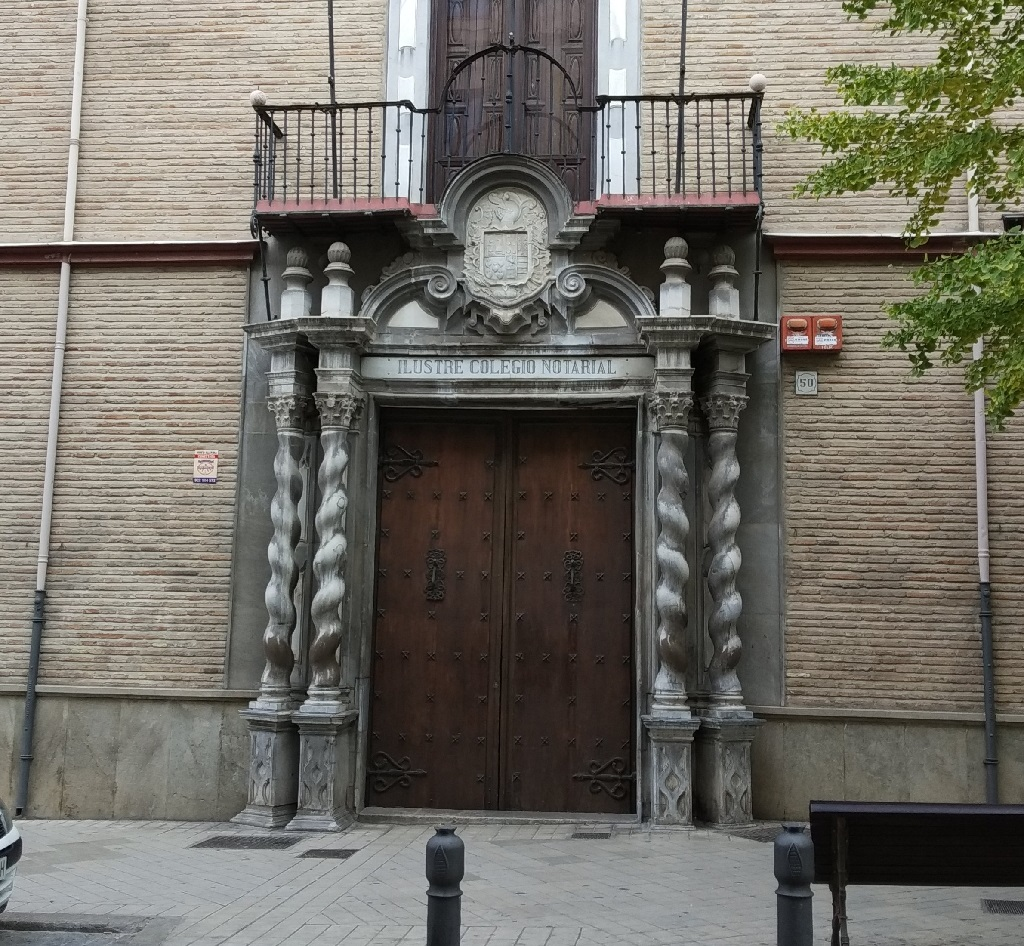columna-salomonica: (258, 426, 307, 703), (702, 429, 749, 705), (308, 419, 353, 694), (653, 427, 692, 705)
fronton-partido: (358, 260, 658, 356)
vano-adintelado: (352, 385, 654, 821)
